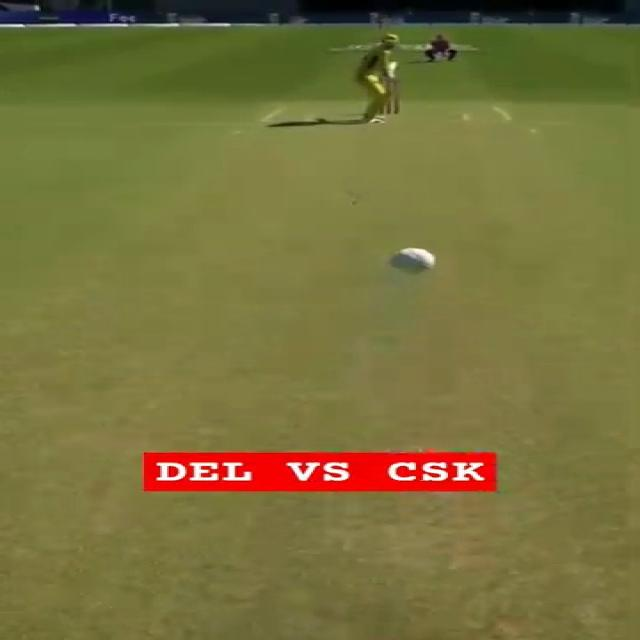ball: (388, 244, 439, 280)
